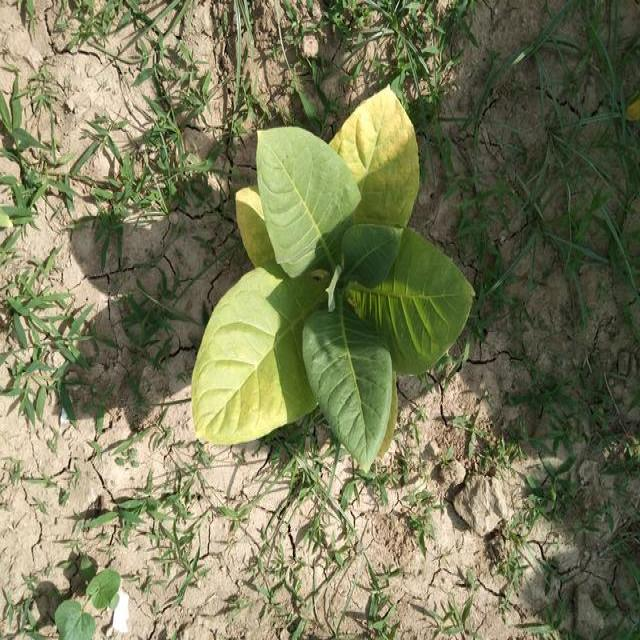crop: (175, 73, 487, 480)
